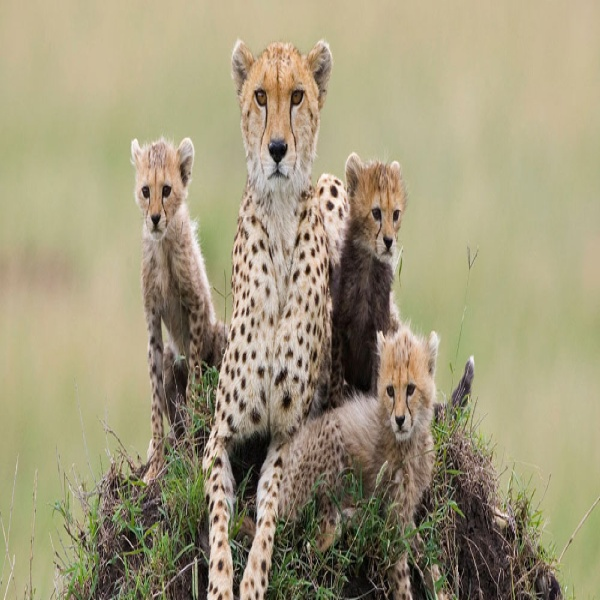Cheetah: (200, 34, 353, 599), (287, 324, 442, 600), (127, 133, 229, 476), (340, 150, 409, 391)
